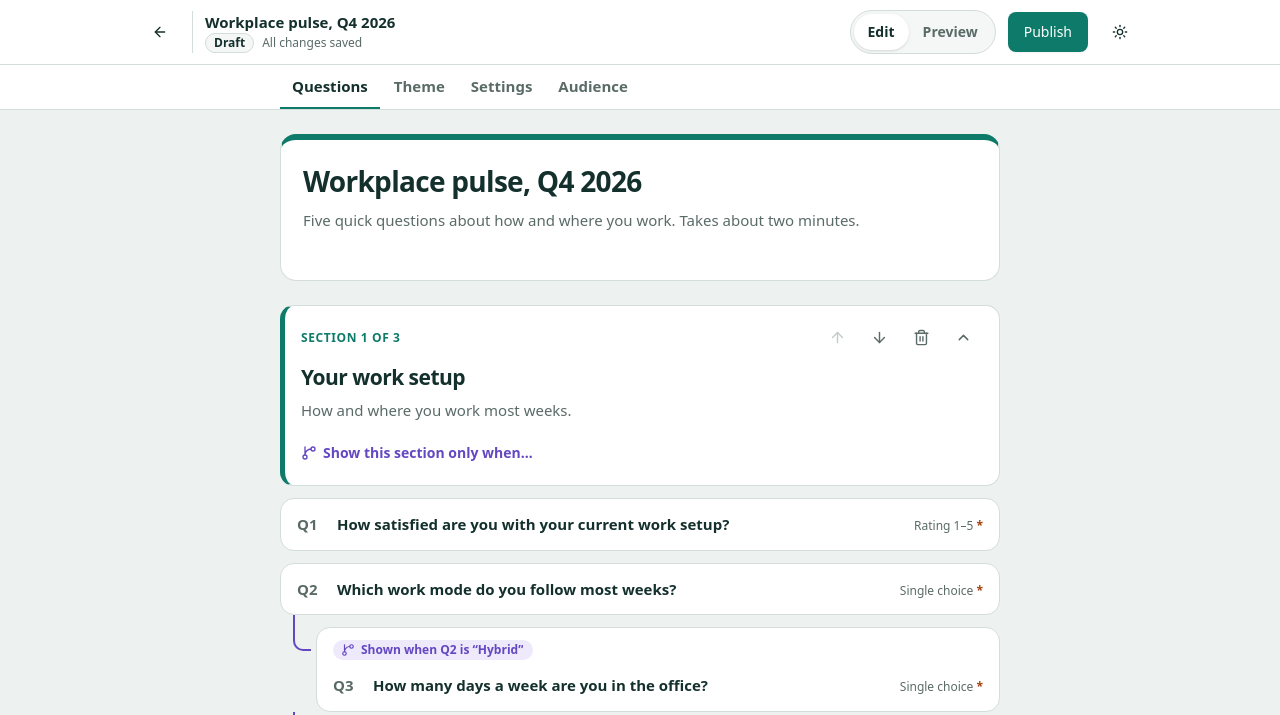
Scenario: builder with the sample loaded › deletes a question with Undo
Expected: the field named "Survey title" is shown, [303, 160, 977, 203]
Click the button "Q2 Which work mode do you follow most weeks? Single choice *": (640, 589) [281, 564, 999, 614]
(page scrolled)
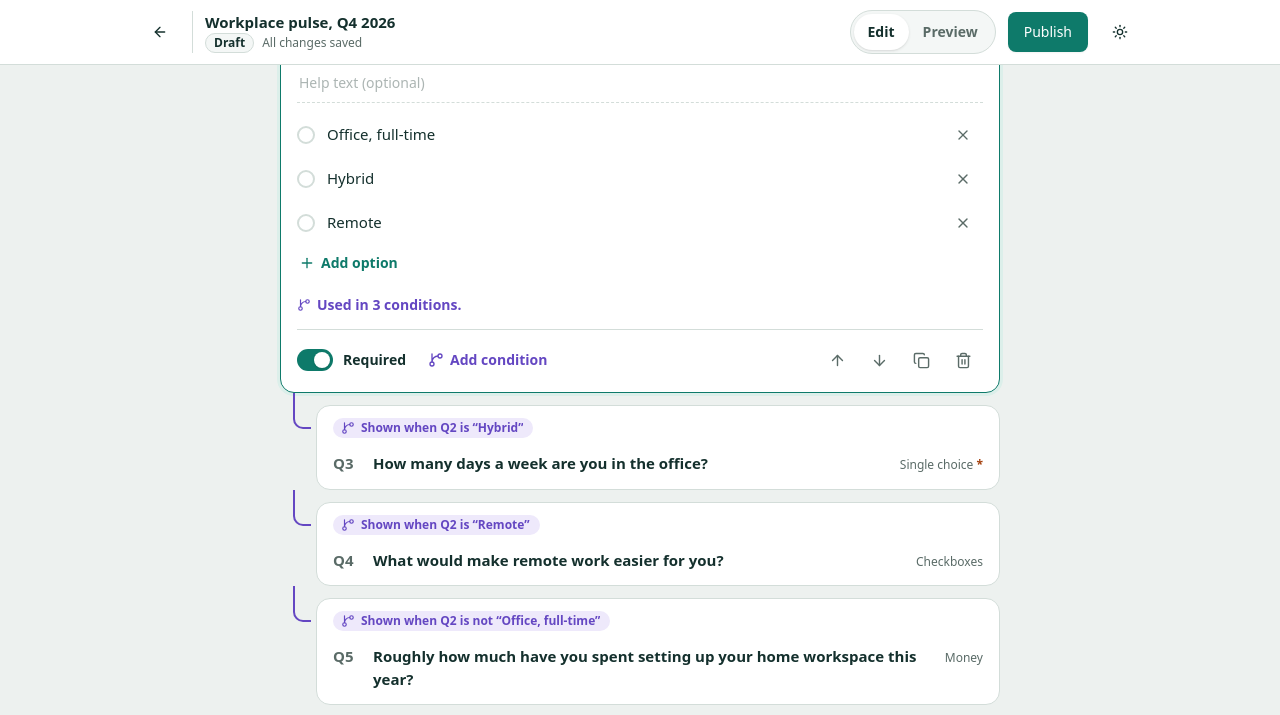
Click the button named "Delete Q2": (963, 360) [943, 340, 983, 380]
(page scrolled)
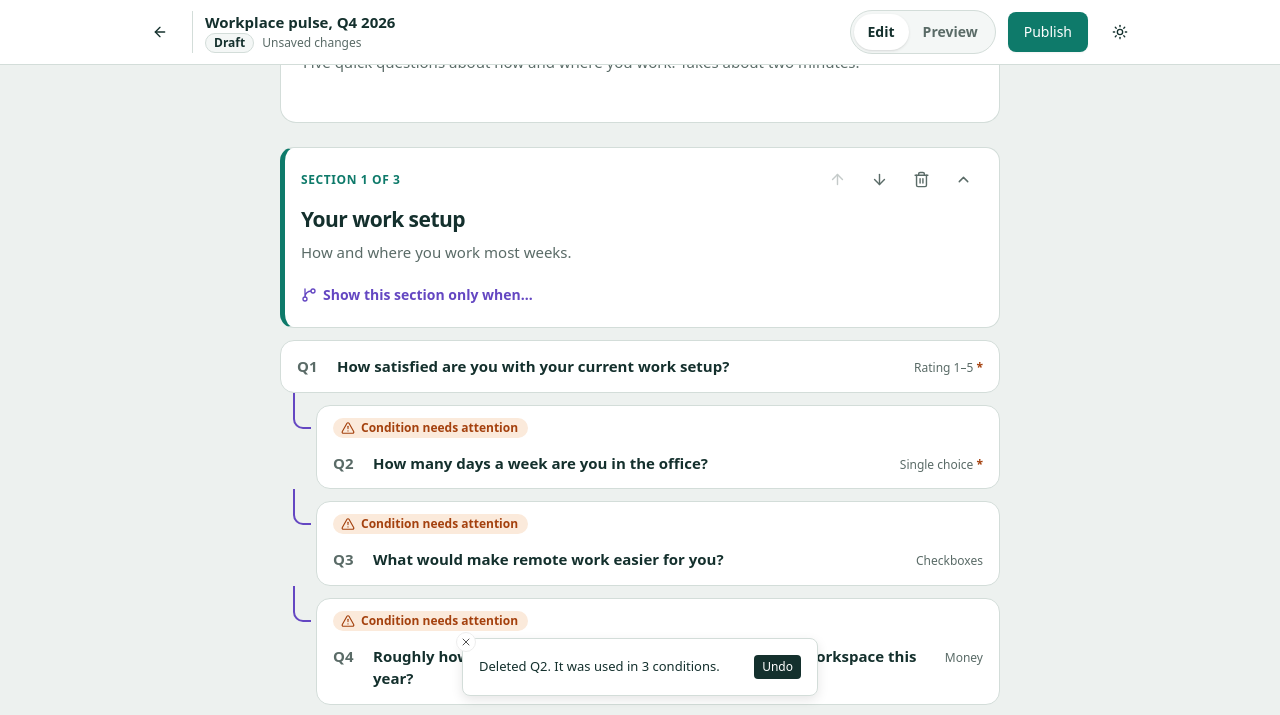
Expected: the text "Condition needs attention" is shown 3 times, [361, 420, 518, 436]; [361, 516, 518, 532]; [361, 612, 518, 628]
Expected: the text "Deleted Q2. It was used in 3 conditions." is shown, [479, 657, 720, 677]
Click the button "Undo": (778, 667) [754, 655, 801, 679]
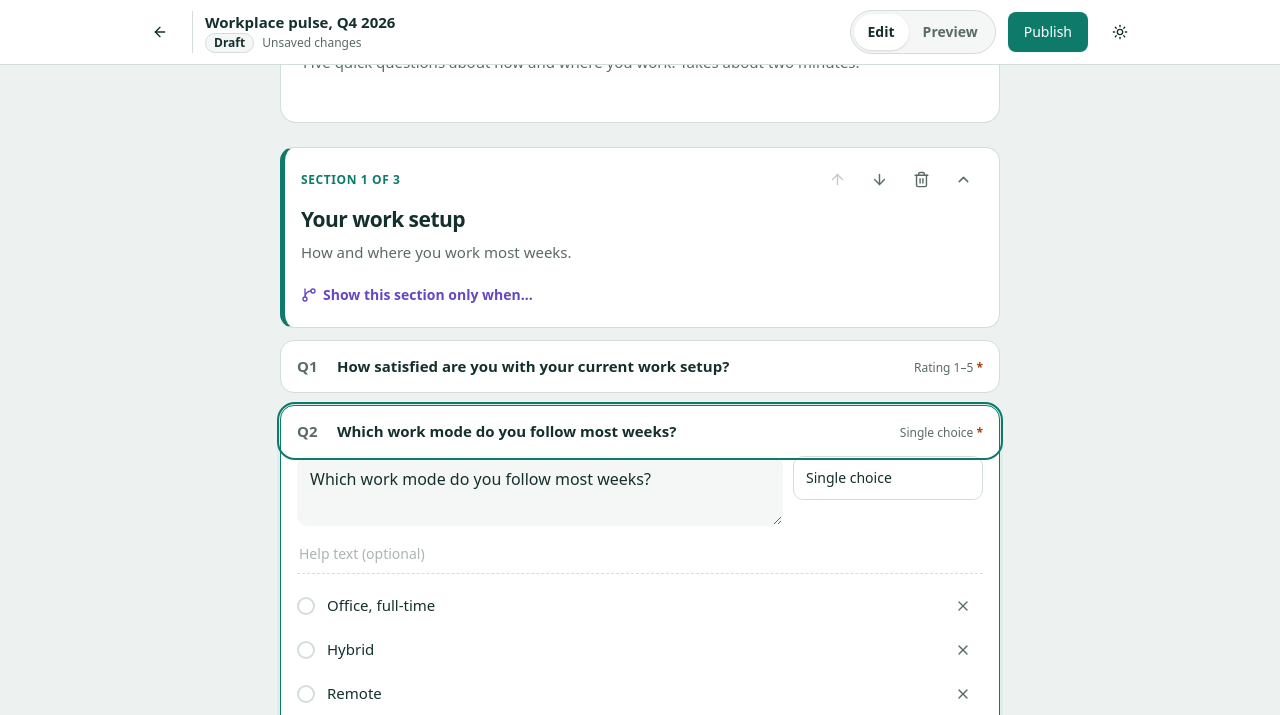
Expected: the text "Condition needs attention" is gone
